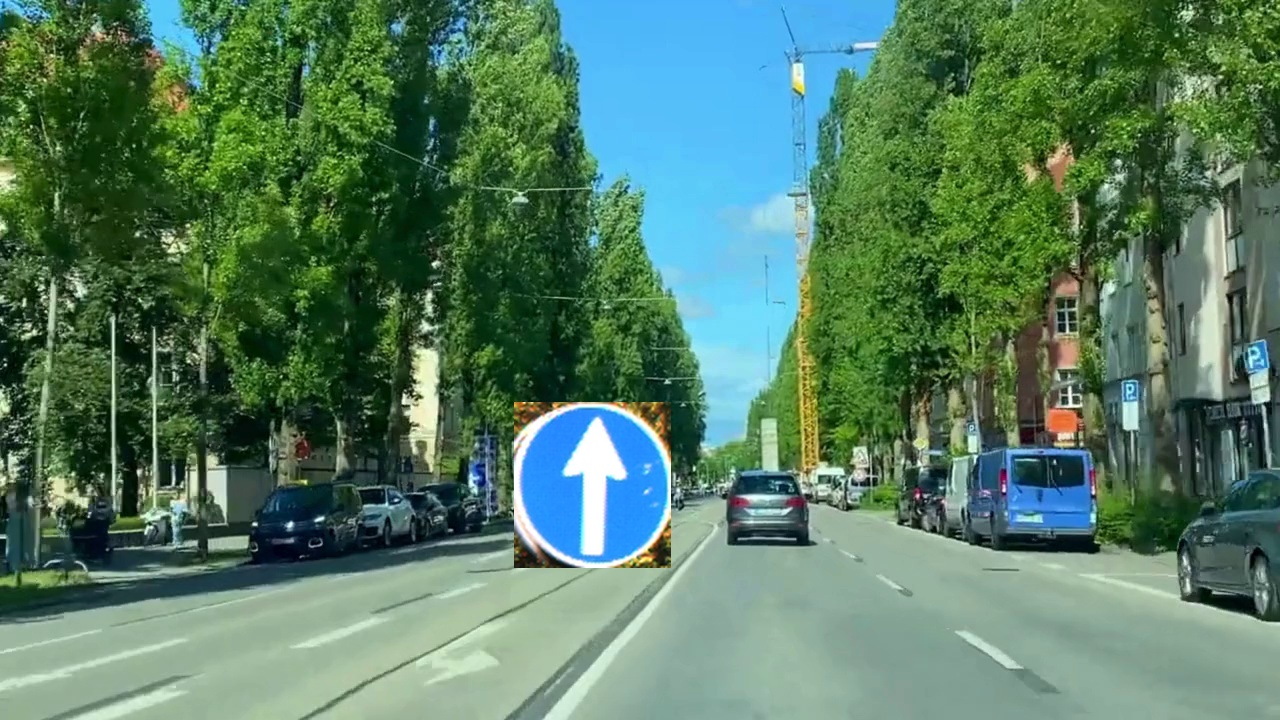Ahead only: (514, 402, 671, 568)
